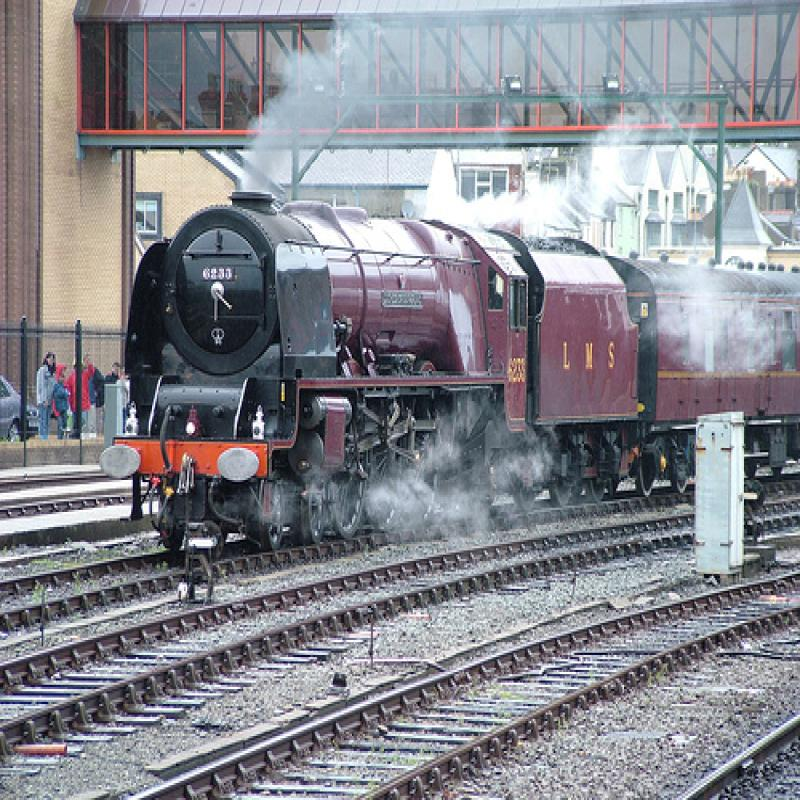train: (99, 195, 800, 547)
